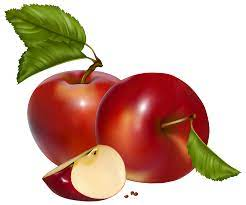apple: (39, 145, 126, 200)
